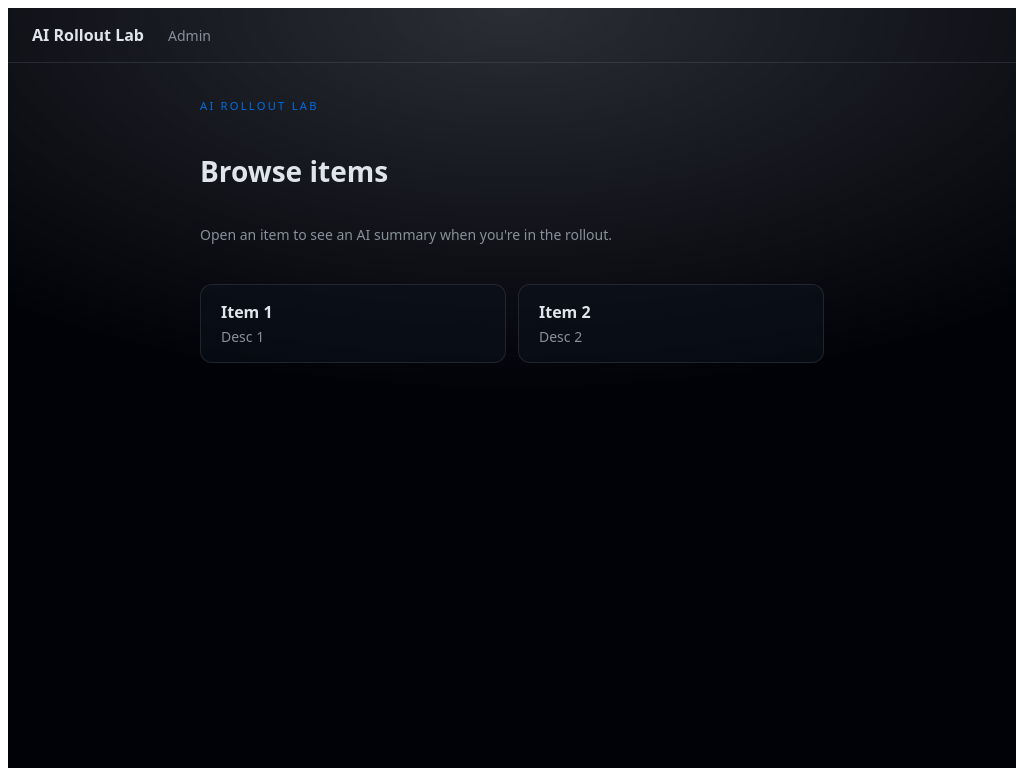
Scenario: Rollout behavior › shows AI summary when in rollout
This screenshot has width=1024, height=768.
Click the link "Item 1 Desc 1" at (247, 312), box x1=200 y1=284 x2=506 y2=363
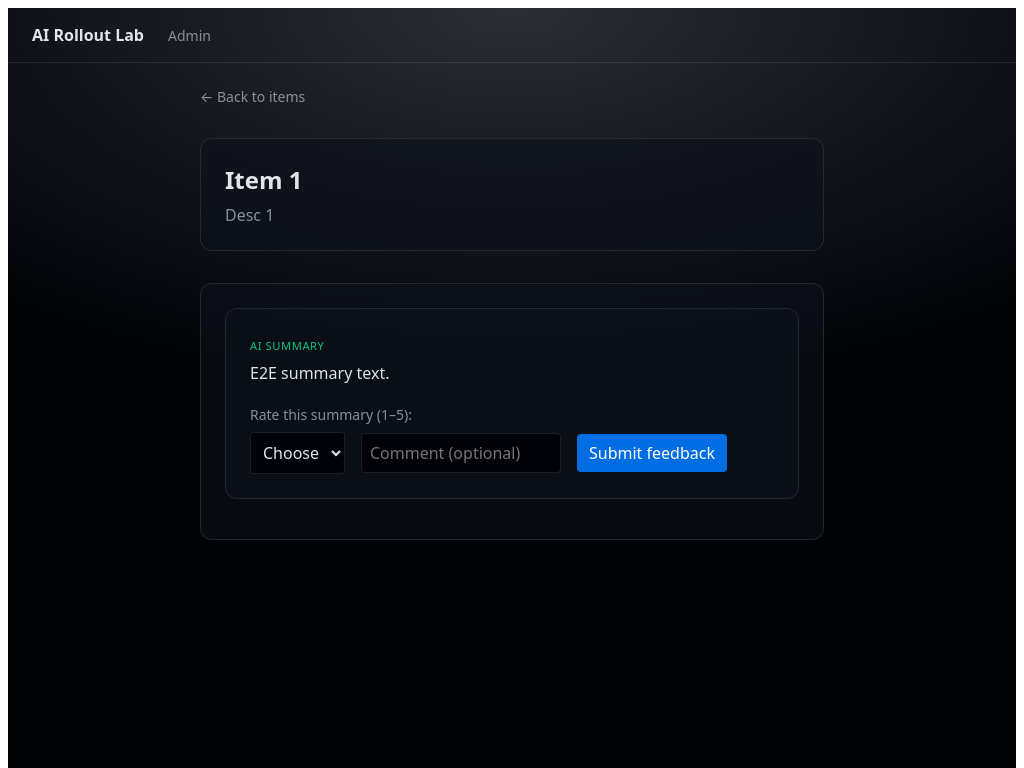
Expected: the element with test id "ai-summary-card" is shown, x1=225 y1=308 x2=799 y2=499
Expected: the text with test id "ai-summary-text" reads "E2E summary text.", x1=250 y1=362 x2=390 y2=384
